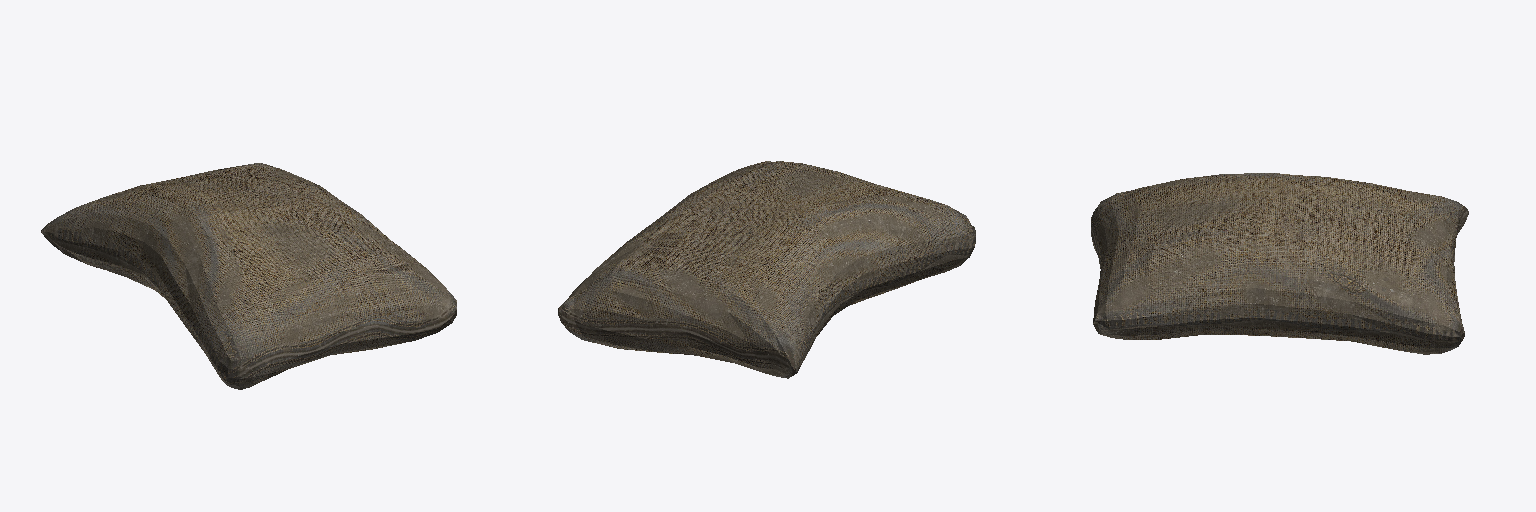
3 views of the same model, side by side, from view 1: azimuth 30°, elevation 25°; view 2: azimuth 150°, elevation 25°; view 3: azimuth 270°, elevation 25° (orthographic).
Parts seen in each view (by area): view 1: Sandbag_10.001; view 2: Sandbag_10.001; view 3: Sandbag_10.001.
Part boxes in pixels (x1,y1,x2,y2): Sandbag_10.001: (41, 163, 456, 389); Sandbag_10.001: (558, 161, 975, 378); Sandbag_10.001: (1091, 173, 1468, 354).
Size of the model in its own units: 1.68 by 0.7345 by 2.26.
Materials: 1 (1 with a texture image).